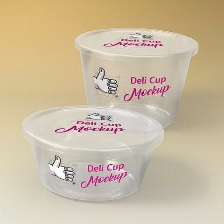plastic_box: (17, 98, 169, 205), (69, 21, 203, 133)
